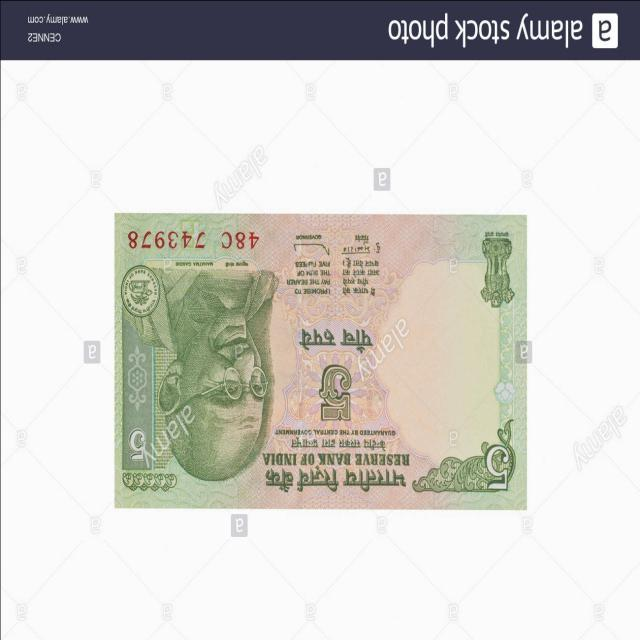5IndianRupees: (114, 212, 529, 512)
